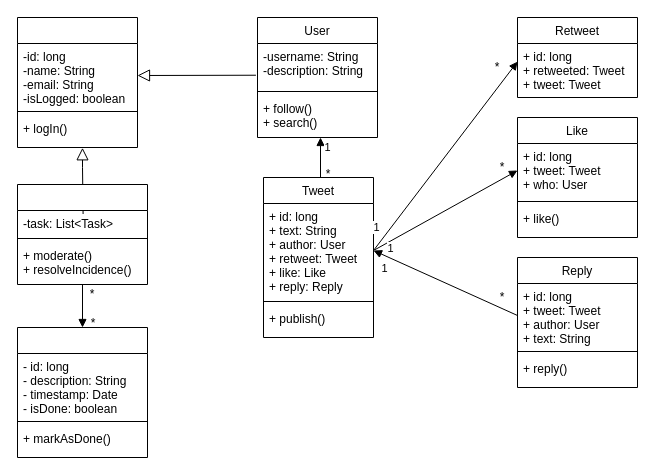
This 655x475 diagram has some shape labels left out. Here are the shapes that lost their labels. From the top down, the box of each, then its label:
(16, 16, 138, 148): Person
(16, 184, 148, 284): Admin
(16, 326, 148, 458): Task
